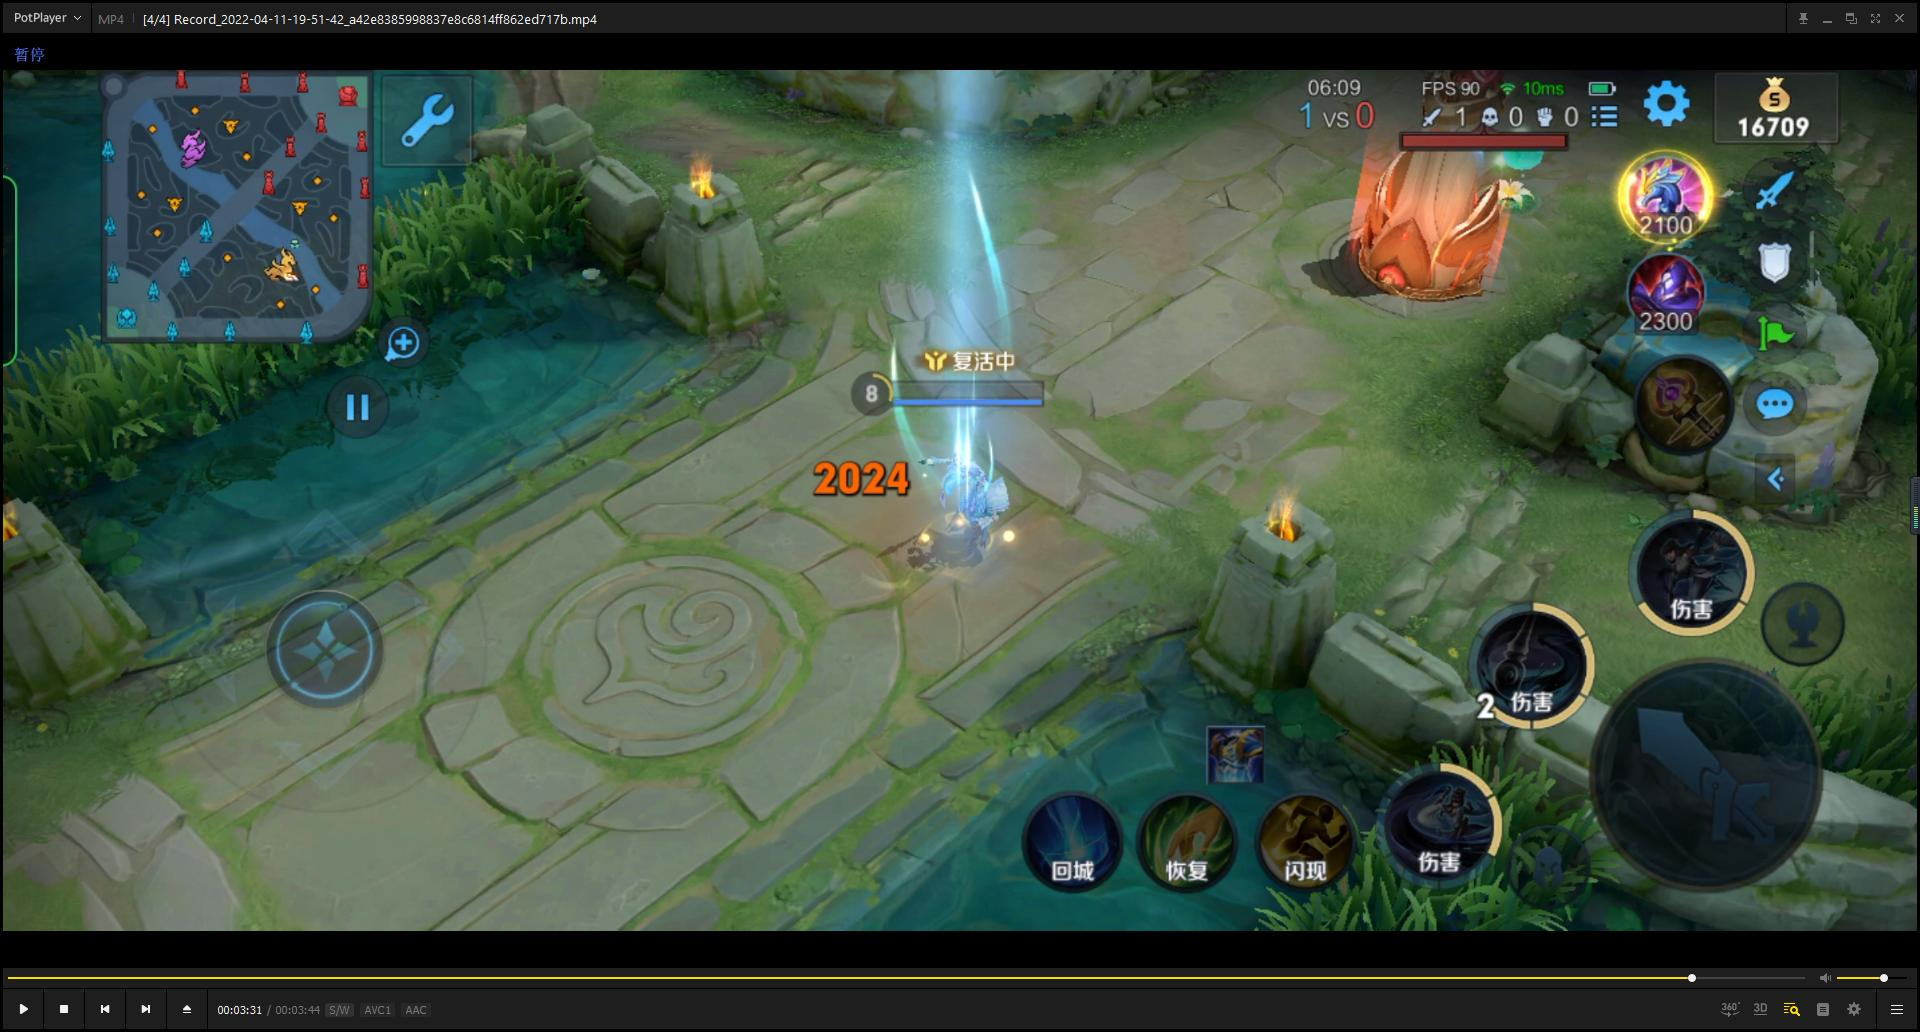Hero: (840, 419, 1058, 586)
Tower: (1313, 69, 1572, 311)
